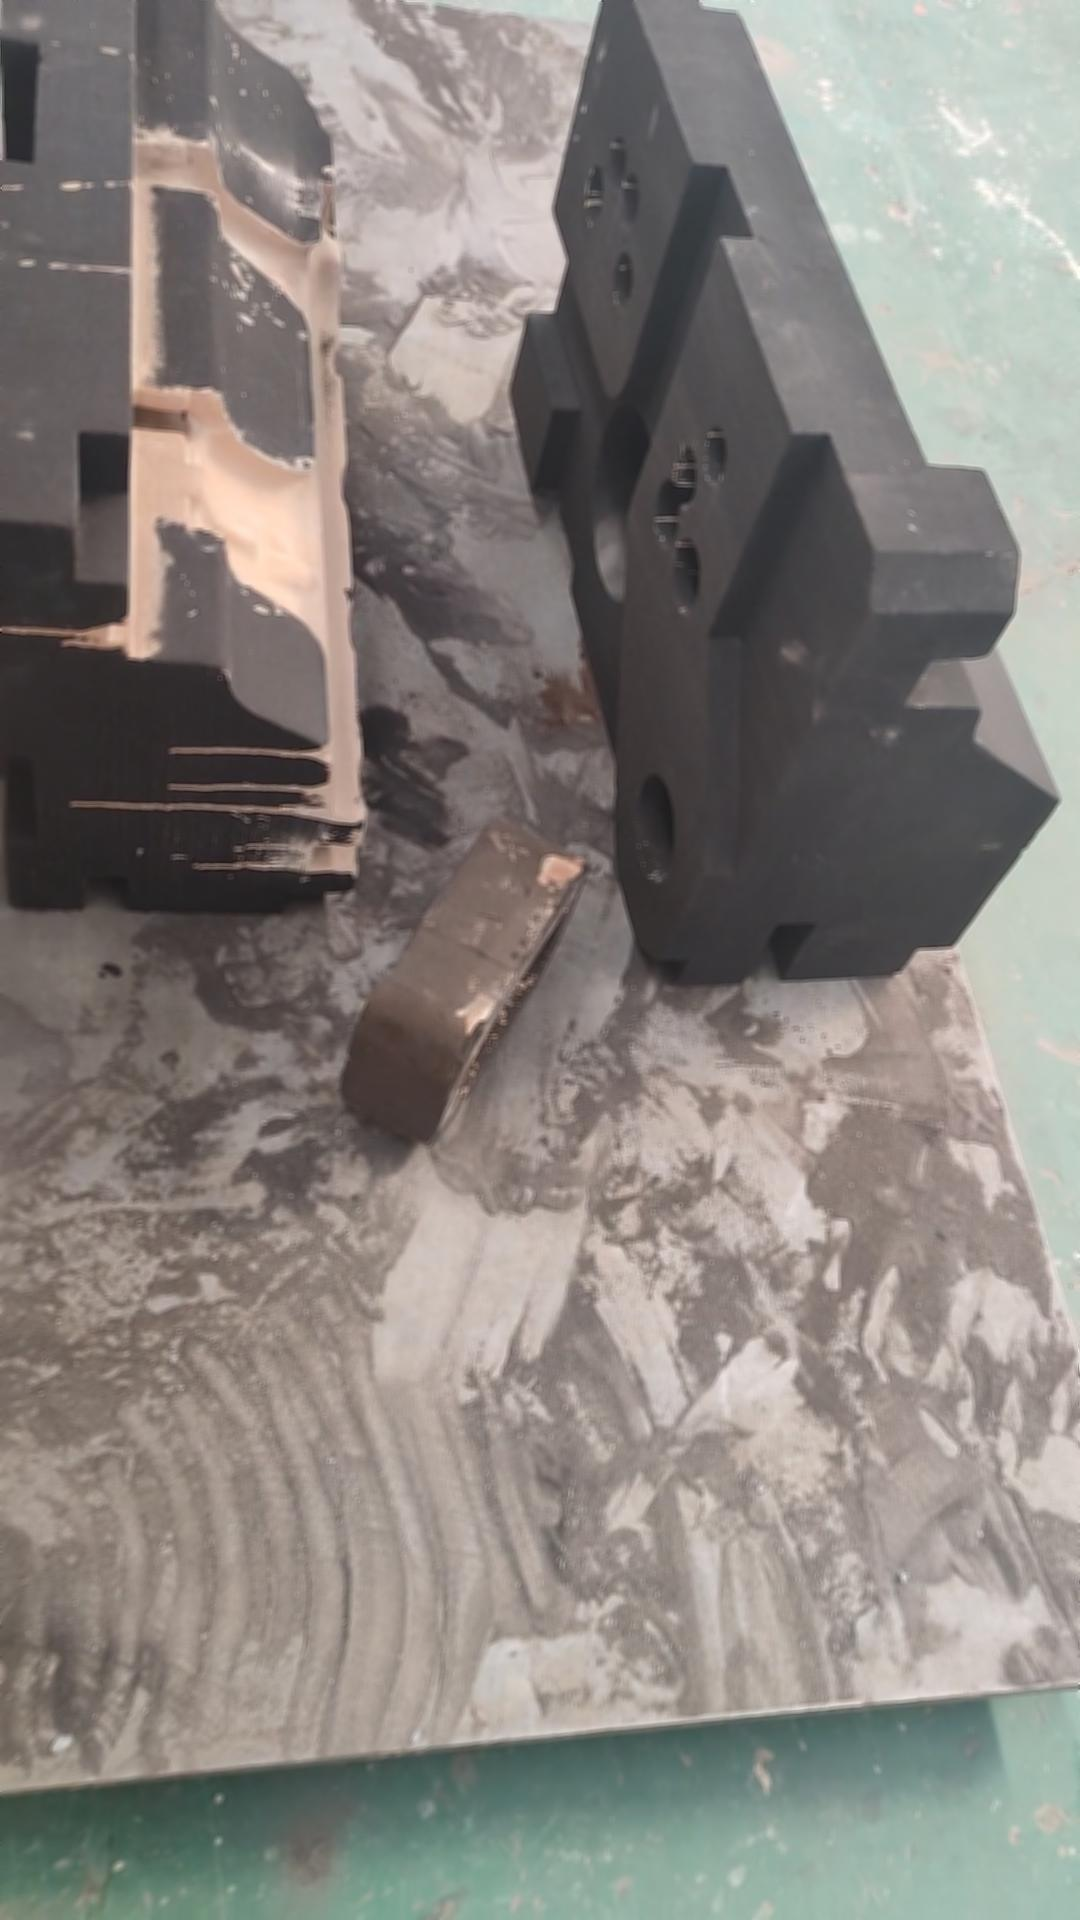pouring hole: (632, 770, 674, 886)
